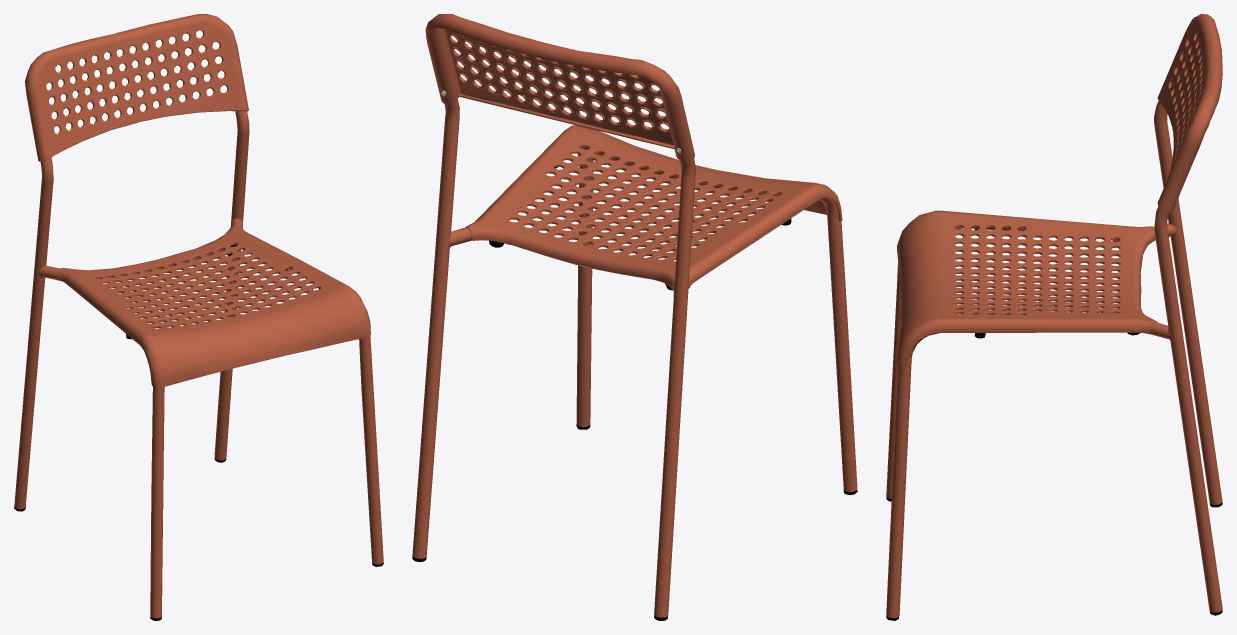
File: sandsberg-silla-marron-rojizo.glb
3 renders of one model, left to right at view 1: azimuth 30°, elevation 25°; view 2: azimuth 150°, elevation 25°; view 3: azimuth 270°, elevation 25°, orthographic. The views are drawn at different scales.
Visible parts, largest first — view 1: ASY_ART_60605426_S01_NV01; view 2: ASY_ART_60605426_S01_NV01; view 3: ASY_ART_60605426_S01_NV01.
Boxes of the visible parts, box(x1,y1,x2,y2) form: ASY_ART_60605426_S01_NV01: box(14, 14, 383, 620); ASY_ART_60605426_S01_NV01: box(412, 14, 857, 620); ASY_ART_60605426_S01_NV01: box(886, 14, 1222, 620).
Bounding box in the file's own units: 0.4158 × 0.7802 × 0.4738.
Materials: 1 (1 with a texture image).
